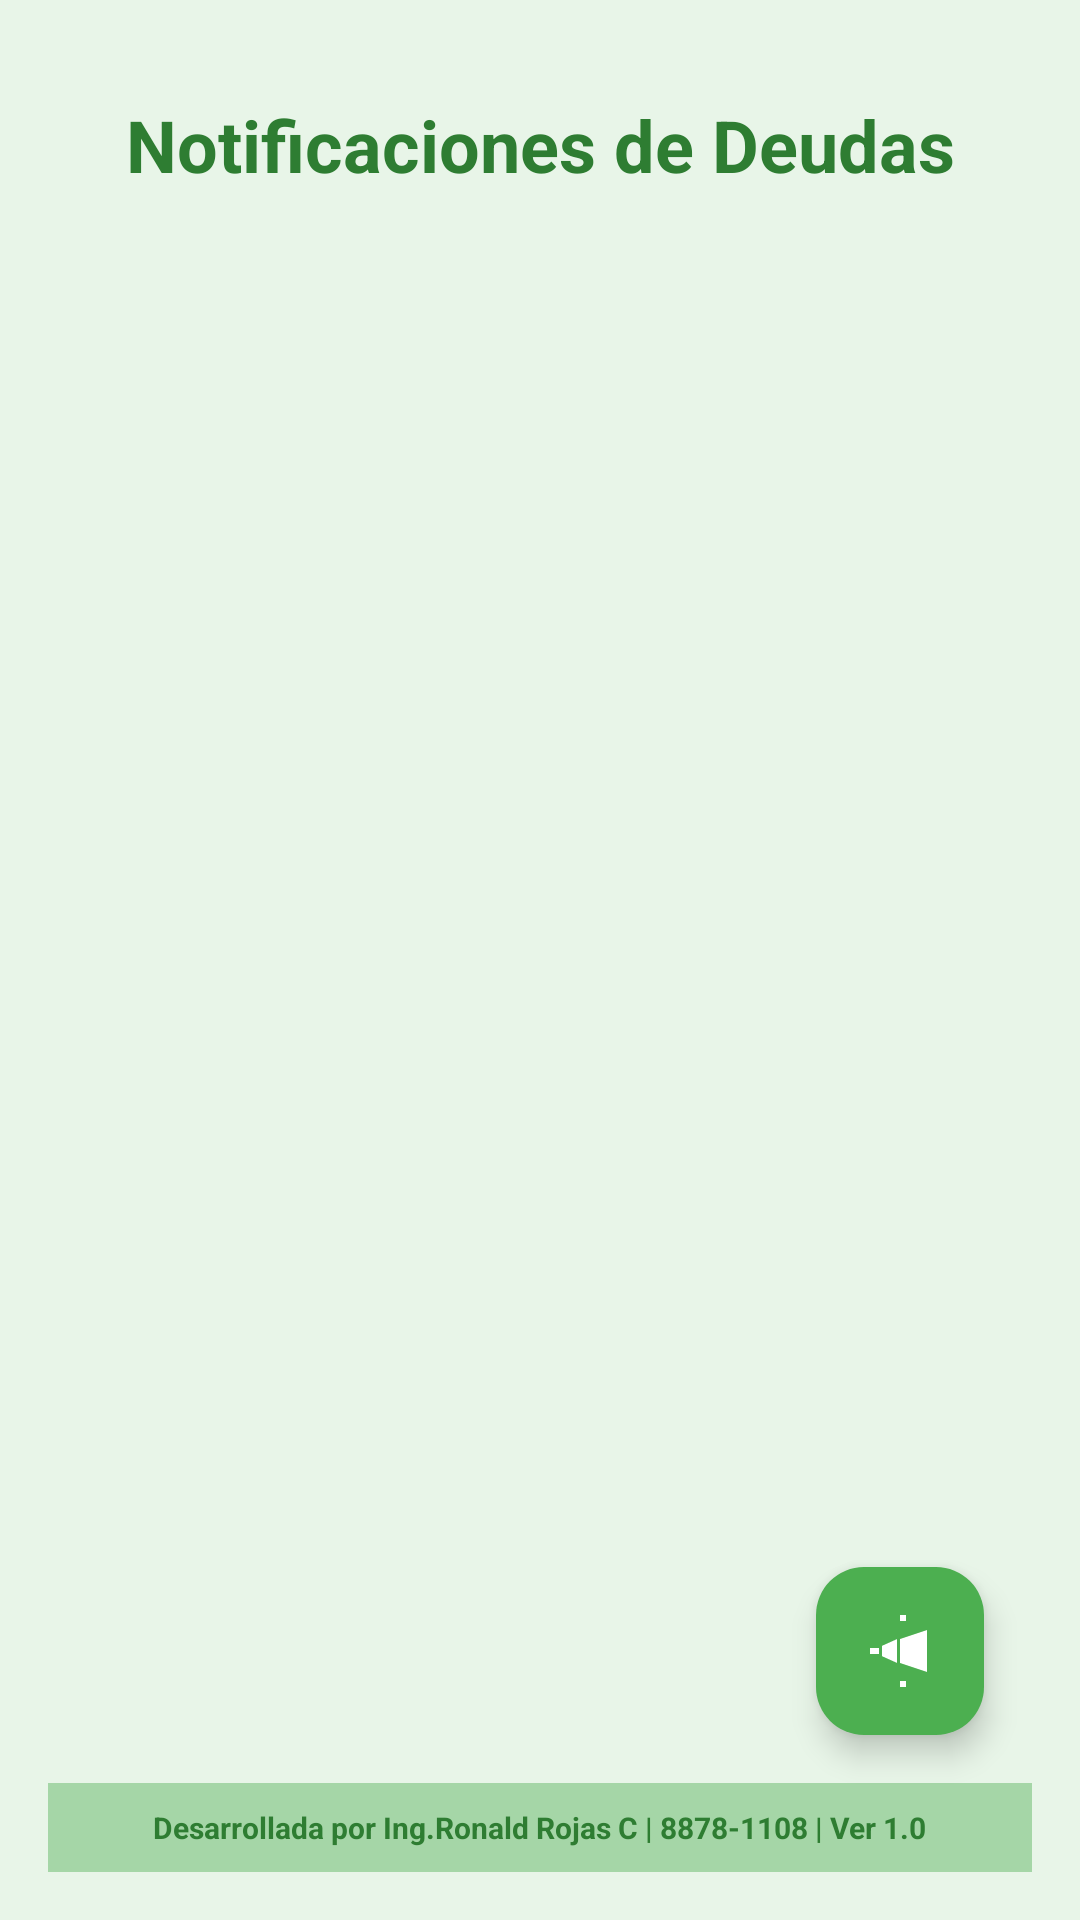

Screen size 1080x1920. Icon name, then its center in pixels as (x=x, y=y):
Crear Notificación: (x=900, y=1651)
